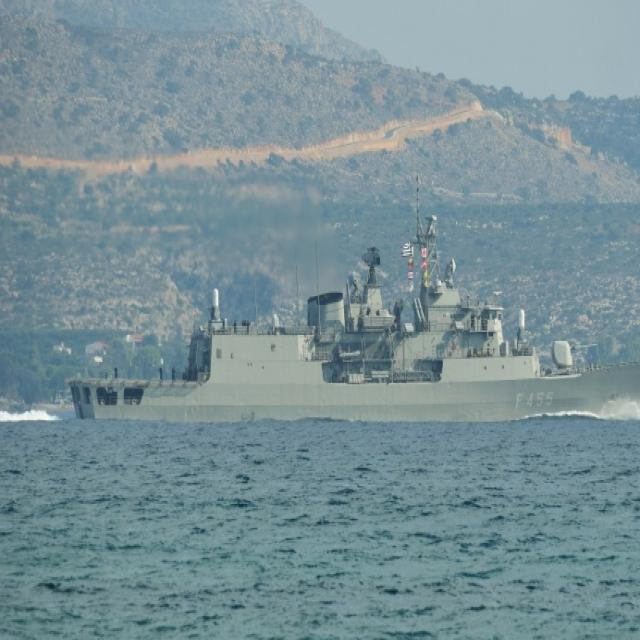Fragata: (65, 176, 640, 430)
